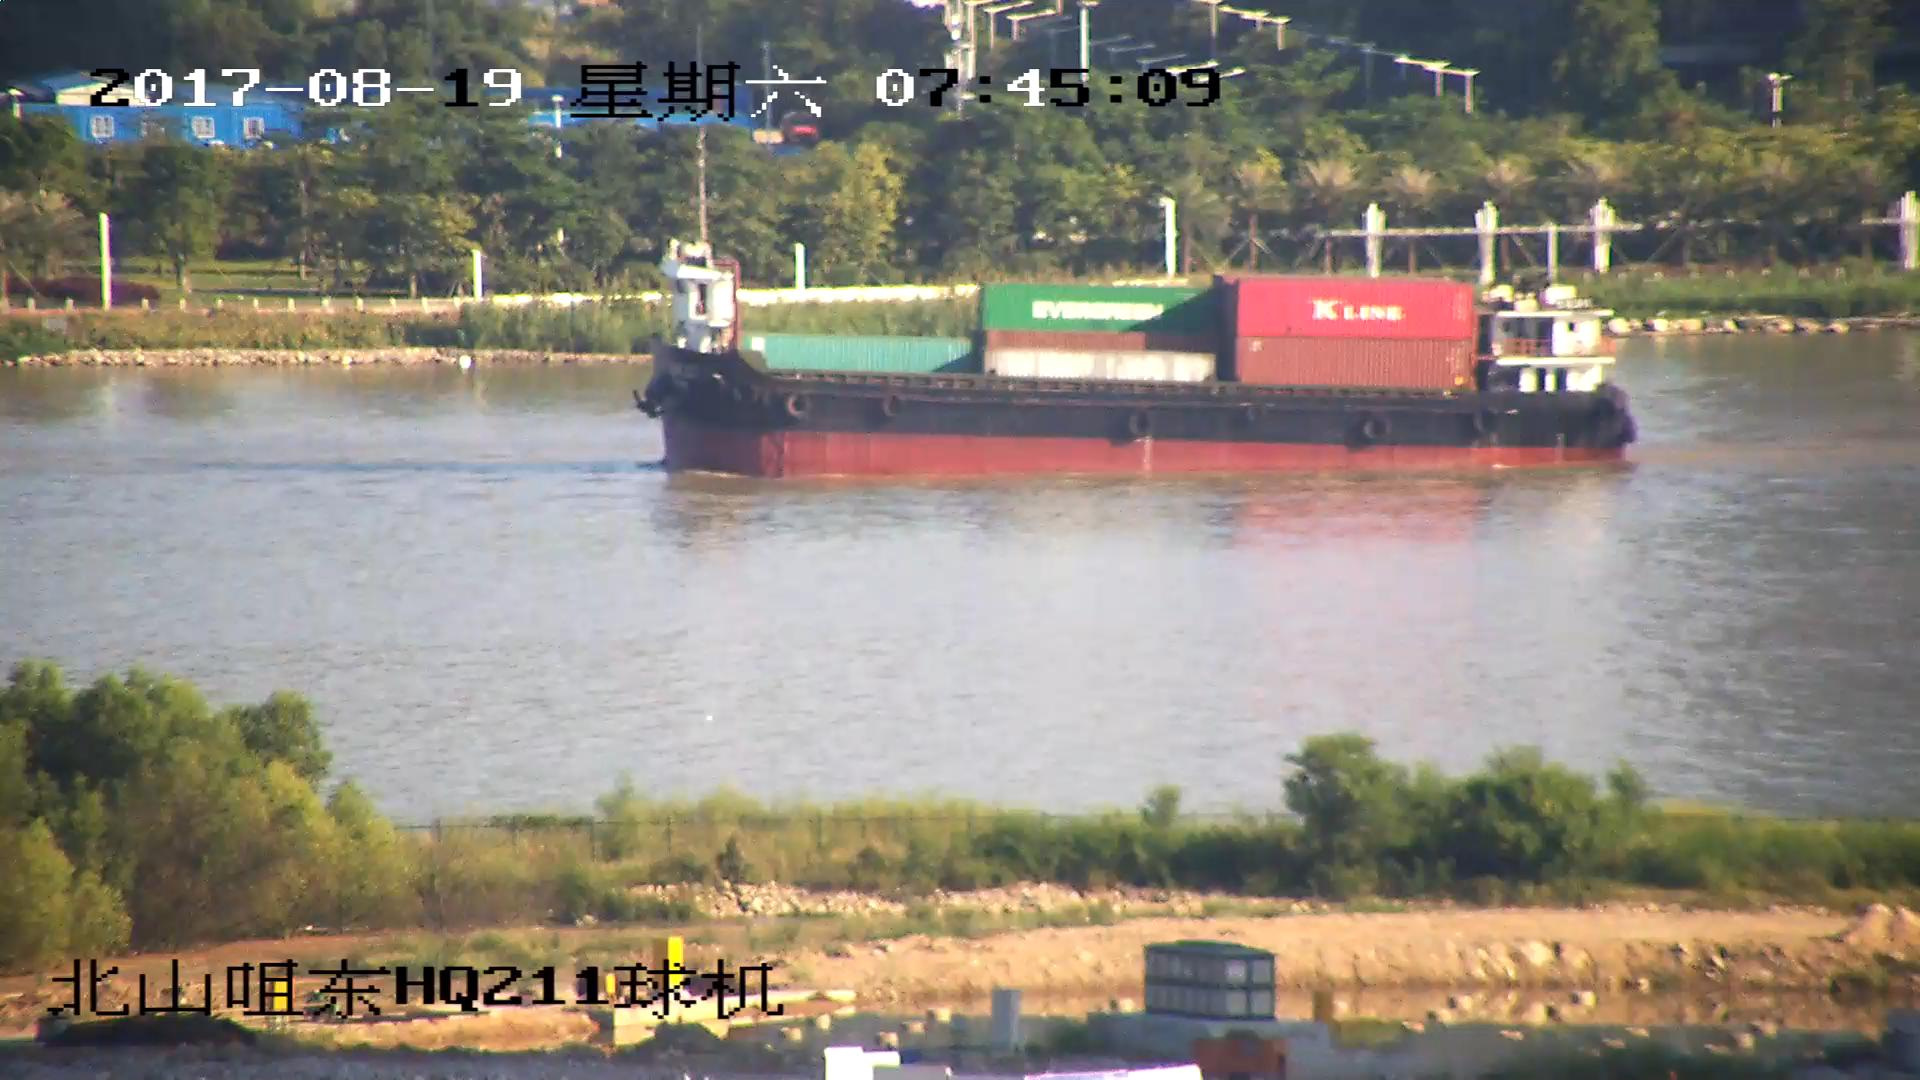container ship: (629, 137, 1639, 475)
